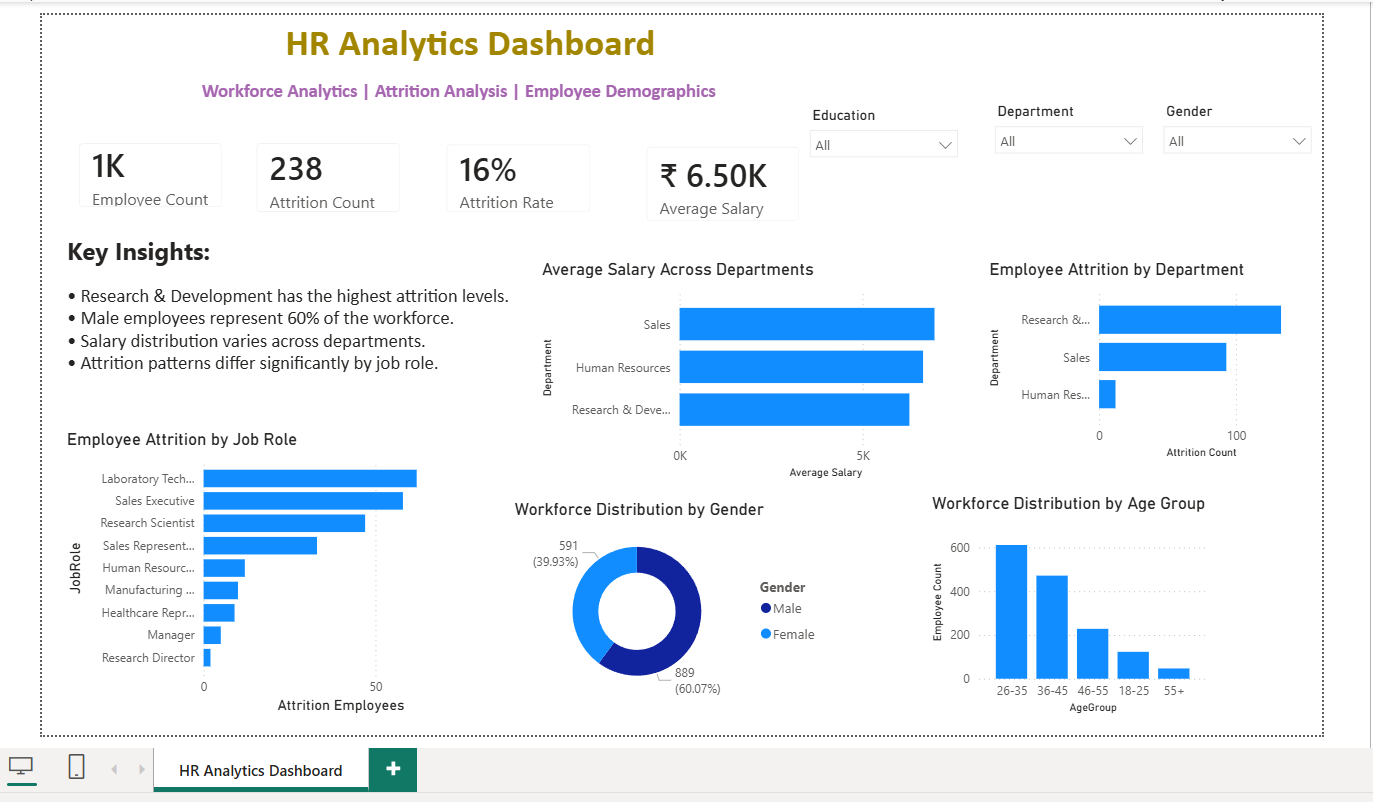

What the dashboard file says about the page in this screenshot:
{"tool":"powerbi","page":{"name":"HR Analytics Dashboard","canvas":[1280,720],"ordinal":0},"visuals":[{"type":"textbox","box":[196.2,0,561.2,60],"z":0},{"type":"cardVisual","fields":{"Data":["HR_Analytics.Employee Count"]},"box":[20,111.2,177.5,98.8],"z":1000},{"type":"cardVisual","fields":{"Data":["HR_Analytics.Attrition Count"]},"box":[197.5,111.2,178.8,103.8],"z":2000},{"type":"cardVisual","fields":{"Data":["HR_Analytics.Attrition Rate"]},"box":[387.5,112.5,178.8,102.5],"z":3000},{"type":"cardVisual","fields":{"Data":["HR_Analytics.Average Salary"]},"box":[587.5,115,187.5,108.8],"z":4000},{"type":"clusteredBarChart","title":"Employee Attrition by Department","fields":{"Category":["HR_Analytics.Department"],"Y":["HR_Analytics.Attrition Count"]},"box":[942.5,243.8,335,205],"z":5000},{"type":"donutChart","title":"Workforce Distribution by Gender","fields":{"Category":["HR_Analytics.Gender"],"Y":["HR_Analytics.Employee Count"]},"box":[467.5,483.8,321.2,206.2],"z":6000},{"type":"clusteredColumnChart","title":"Workforce Distribution by Age Group","fields":{"Category":["HR_Analytics.AgeGroup"],"Y":["HR_Analytics.Employee Count"]},"box":[885,477.5,285,226.2],"z":7000},{"type":"clusteredBarChart","title":"Average Salary Across Departments","fields":{"Category":["HR_Analytics.Department"],"Y":["HR_Analytics.Average Salary"]},"box":[495,243.8,447.5,225],"z":8000},{"type":"clusteredBarChart","title":"Employee Attrition by Job Role","fields":{"Category":["HR_Analytics.JobRole"],"Y":["HR_Analytics.Attrition Employees"]},"box":[20,413.8,428.8,290],"z":9000},{"type":"slicer","fields":{"Values":["HR_Analytics.Department"]},"box":[942.5,82.5,168.8,57.5],"z":10000},{"type":"slicer","fields":{"Values":["HR_Analytics.Education"]},"box":[757.5,86.2,168.8,68.8],"z":11000},{"type":"slicer","fields":{"Values":["HR_Analytics.Gender"]},"box":[1111.2,82.5,168.8,68.8],"z":12000},{"type":"textbox","box":[100,60,601.2,51.2],"z":16000},{"type":"textbox","box":[20,215,457.5,178.8],"z":16001}]}

Visuals, with their boxes on the page's 1280x720 design canvas (x1, y1, x2, y2). These are canvas units, not pixel positions in the 1373x802 screenshot, which may show the page scaled, cropped or inside an application window:
textbox: locate(196, 0, 757, 60)
cardVisual - HR_Analytics.Employee Count: locate(20, 111, 198, 210)
cardVisual - HR_Analytics.Attrition Count: locate(198, 111, 376, 215)
cardVisual - HR_Analytics.Attrition Rate: locate(388, 112, 566, 215)
cardVisual - HR_Analytics.Average Salary: locate(588, 115, 775, 224)
"Employee Attrition by Department" clusteredBarChart: locate(942, 244, 1278, 449)
"Workforce Distribution by Gender" donutChart: locate(468, 484, 789, 690)
"Workforce Distribution by Age Group" clusteredColumnChart: locate(885, 478, 1170, 704)
"Average Salary Across Departments" clusteredBarChart: locate(495, 244, 942, 469)
"Employee Attrition by Job Role" clusteredBarChart: locate(20, 414, 449, 704)
slicer - HR_Analytics.Department: locate(942, 82, 1111, 140)
slicer - HR_Analytics.Education: locate(758, 86, 926, 155)
slicer - HR_Analytics.Gender: locate(1111, 82, 1280, 151)
textbox: locate(100, 60, 701, 111)
textbox: locate(20, 215, 478, 394)
